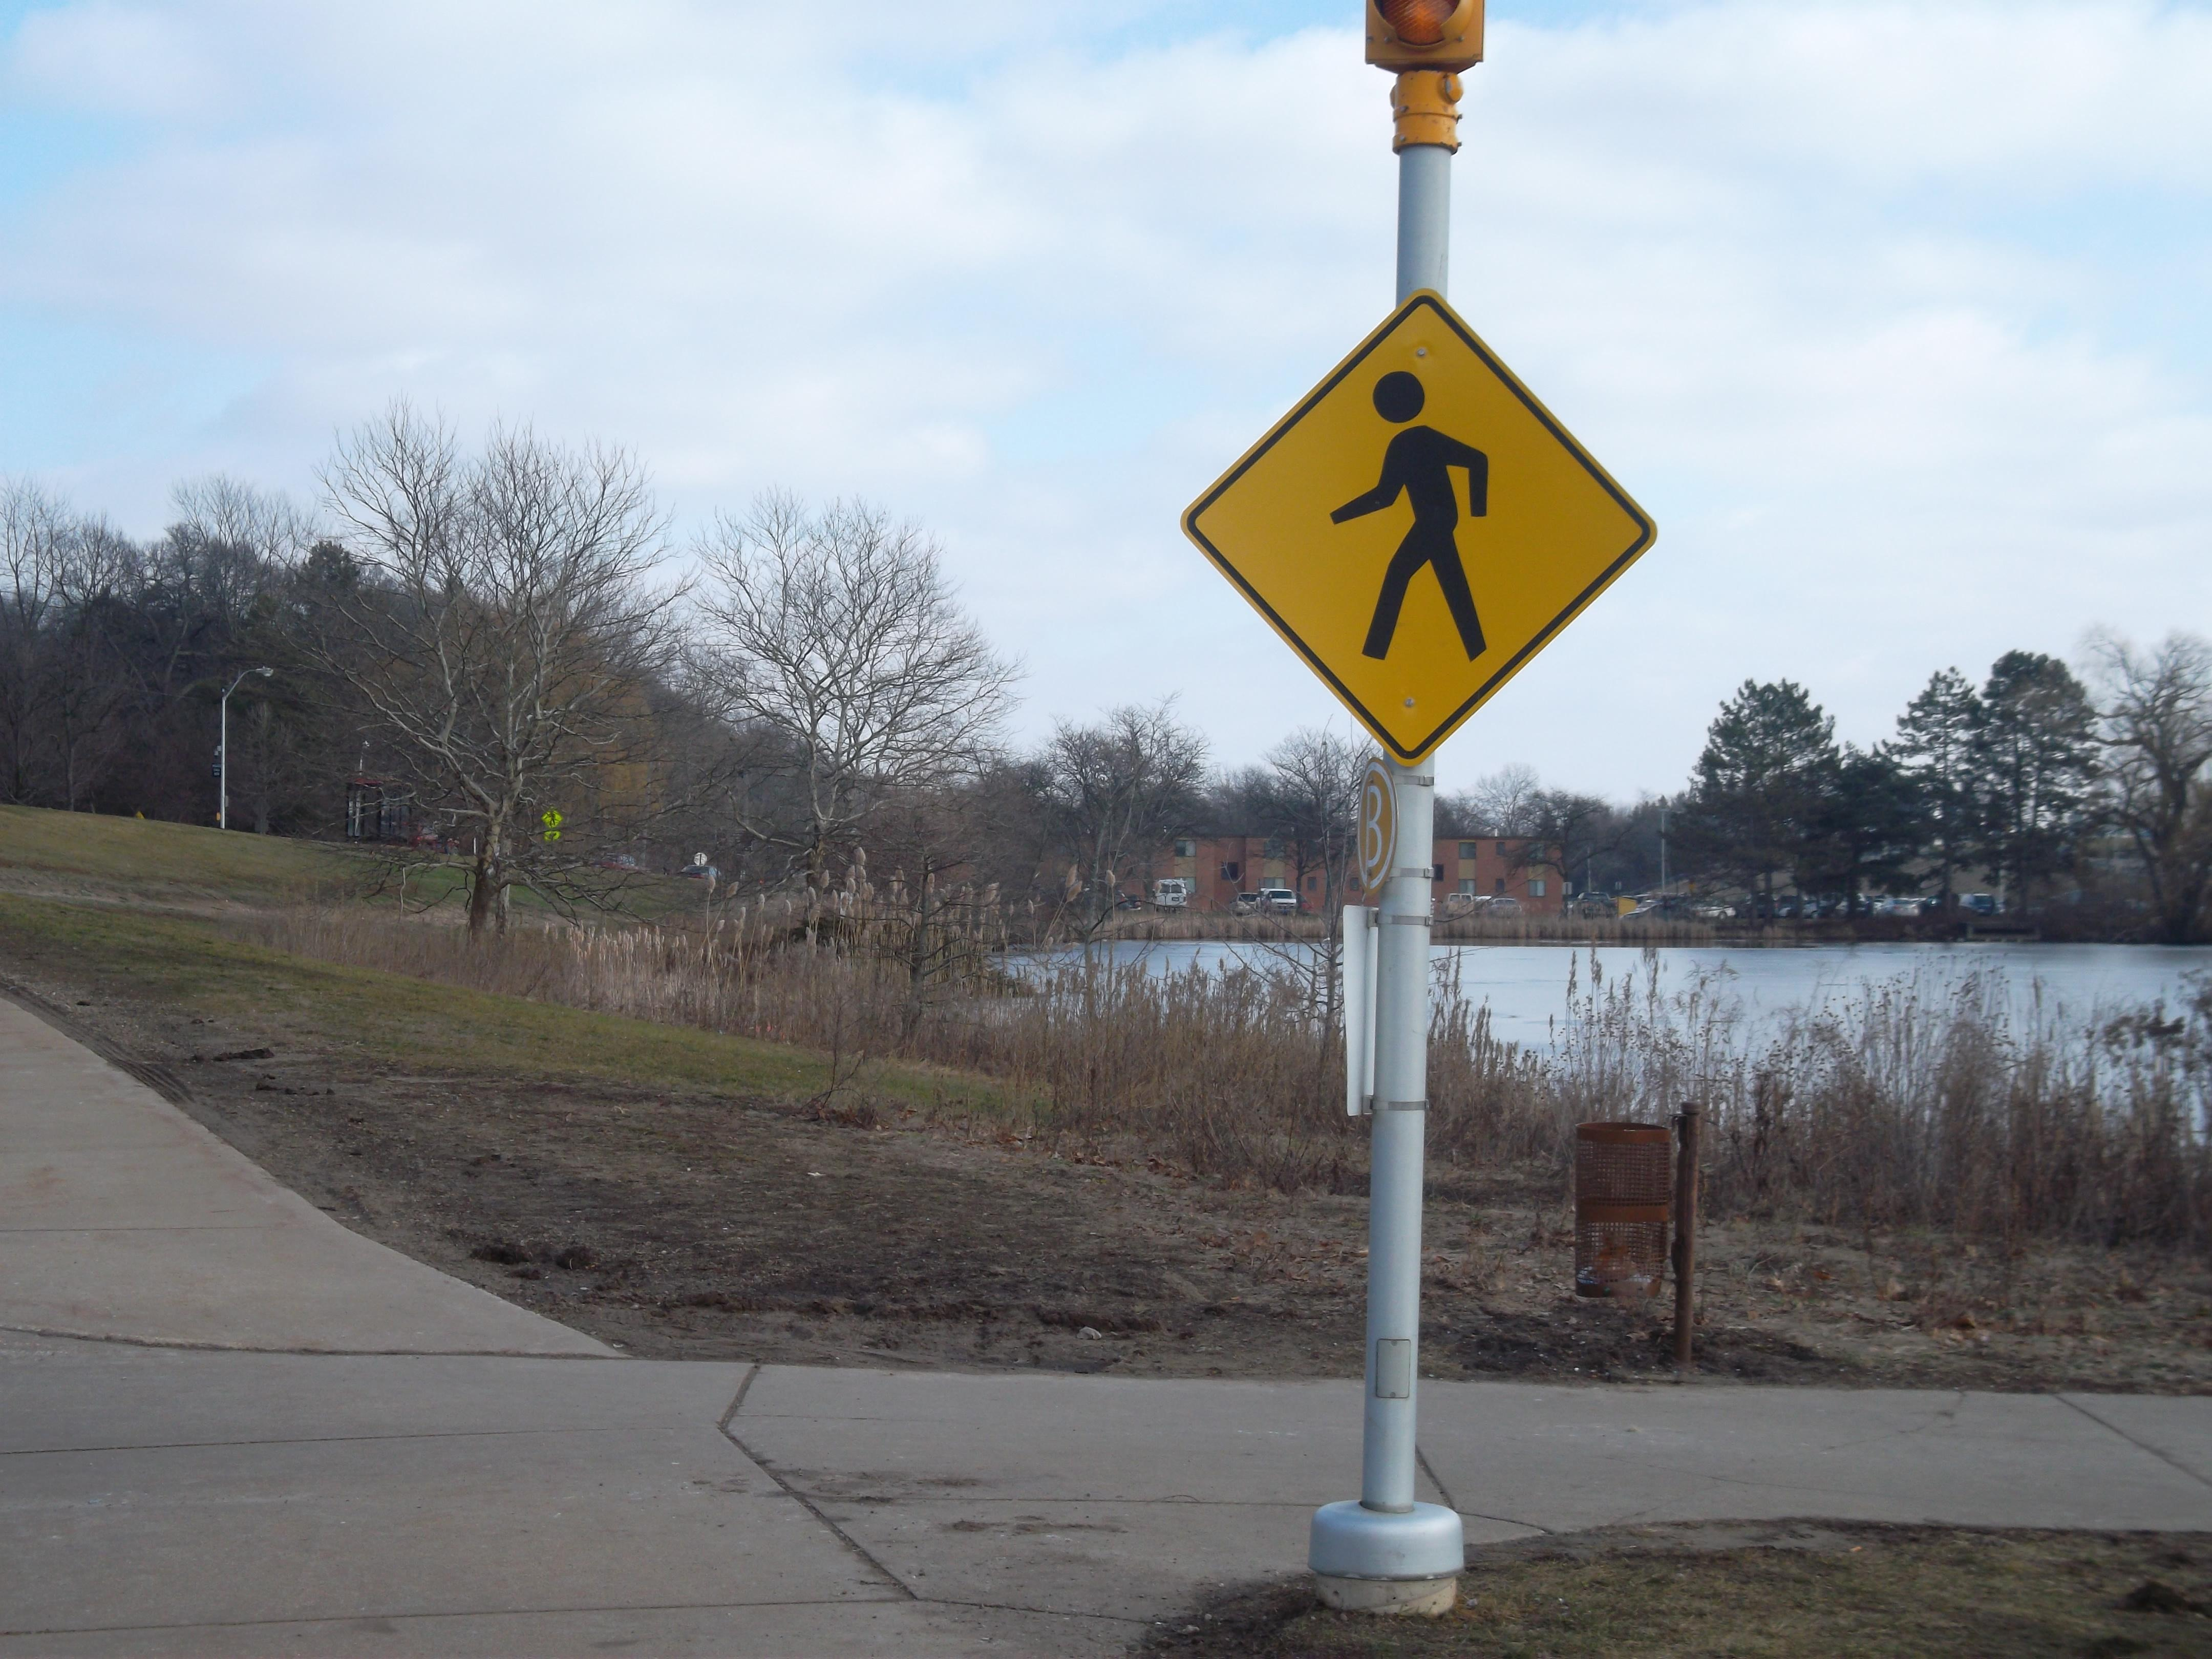warning: (1174, 288, 1662, 765)
